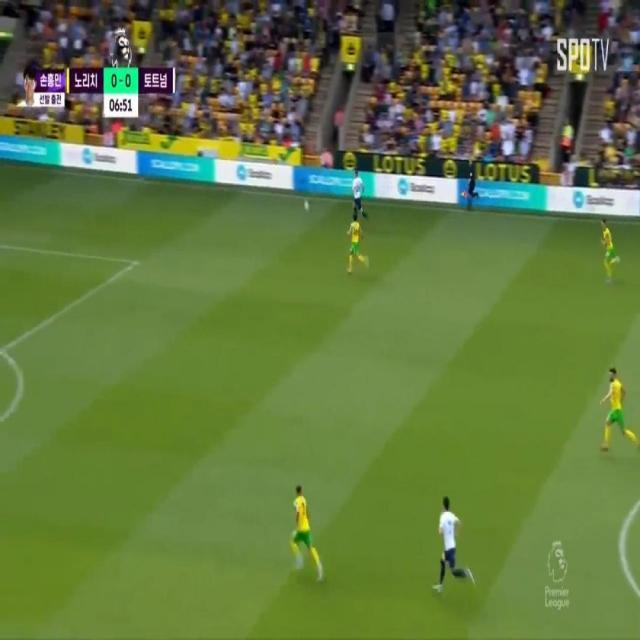ball: (302, 198, 315, 211)
player: (289, 481, 317, 572), (438, 494, 460, 588), (602, 365, 625, 450), (598, 211, 618, 286), (345, 206, 365, 276), (349, 168, 369, 230)
referee: (465, 154, 479, 214)
